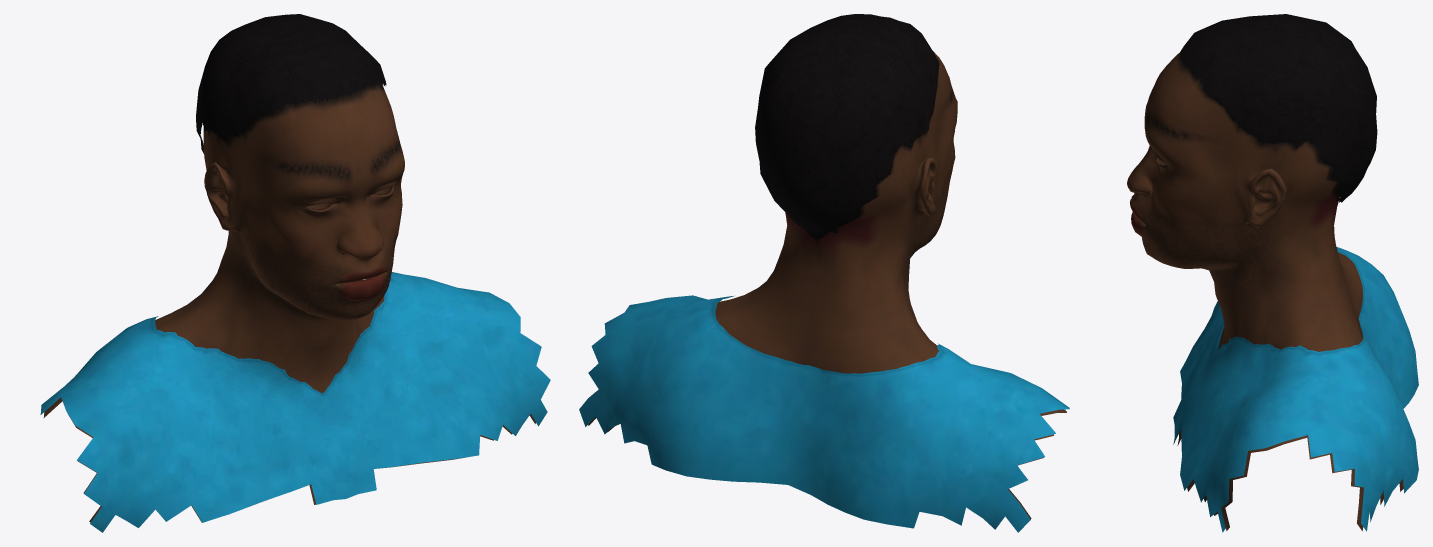
The model's file is daniel.glb.
The picture shows the model from 3 angles, left to right: view 1: azimuth 30°, elevation 25°; view 2: azimuth 150°, elevation 25°; view 3: azimuth 270°, elevation 25°; orthographic projection. The views are drawn at different scales.
Parts seen in each view (by area): view 1: shirt, head, hair; view 2: shirt, head, hair; view 3: head, shirt, hair.
Boxes of the visible parts, left/top/right/bottom form: shirt: left=40, top=272, right=550, bottom=532; head: left=43, top=80, right=535, bottom=522; hair: left=196, top=14, right=386, bottom=154; shirt: left=579, top=295, right=1069, bottom=532; head: left=588, top=50, right=1066, bottom=519; hair: left=755, top=14, right=939, bottom=239; head: left=1127, top=52, right=1403, bottom=531; shirt: left=1173, top=247, right=1418, bottom=532; hair: left=1179, top=14, right=1377, bottom=202.
Bounding box in the file's own units: 4.64 × 4.09 × 2.65.
Materials: 5 (3 with a texture image).
